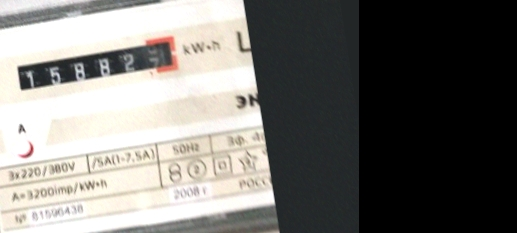1: (23, 68, 35, 87)
2: (121, 50, 136, 72)
5: (45, 64, 62, 85)
7: (146, 54, 159, 67)
8: (95, 54, 111, 77), (72, 59, 87, 81)
screen: (10, 32, 183, 98)
